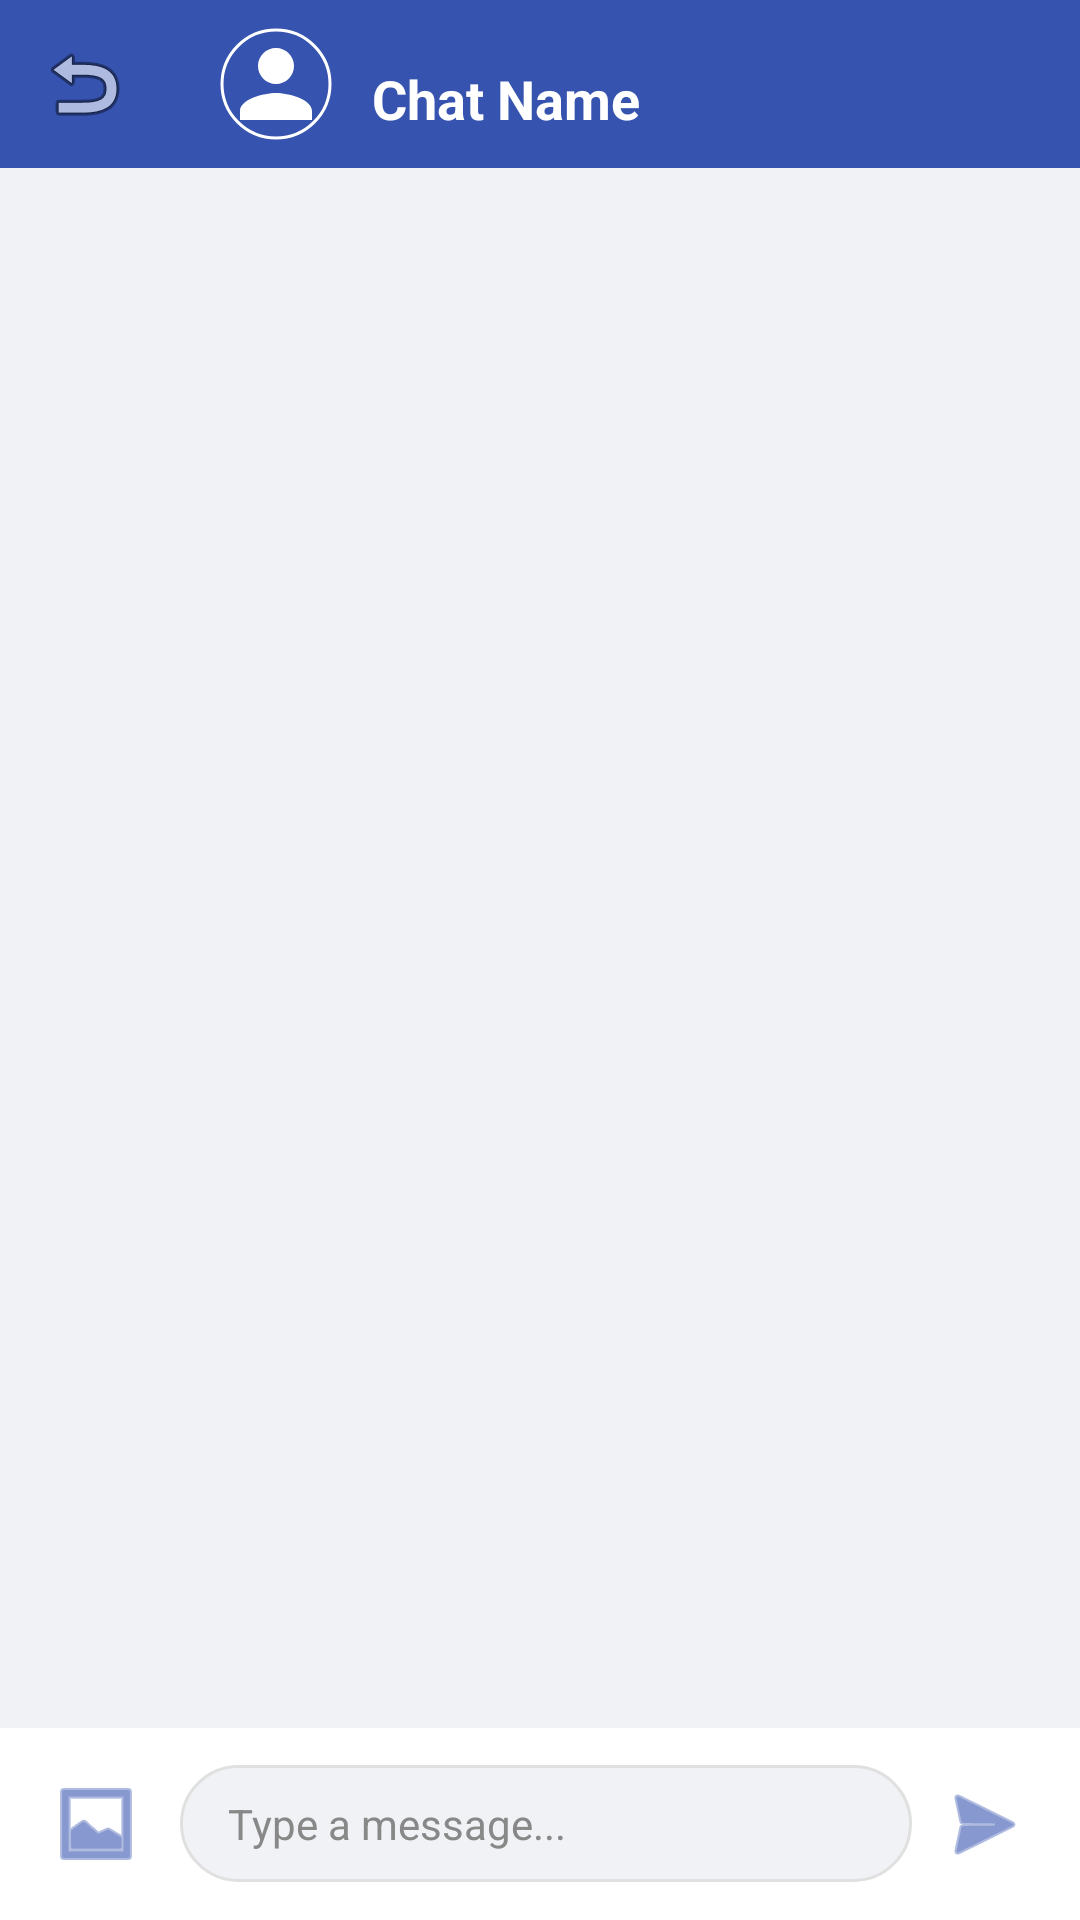

Where to tap for icons on this 1080x1920 app screen, as point (x, y):
gallery: point (96, 1824)
person: point (276, 84)
send: point (985, 1824)
